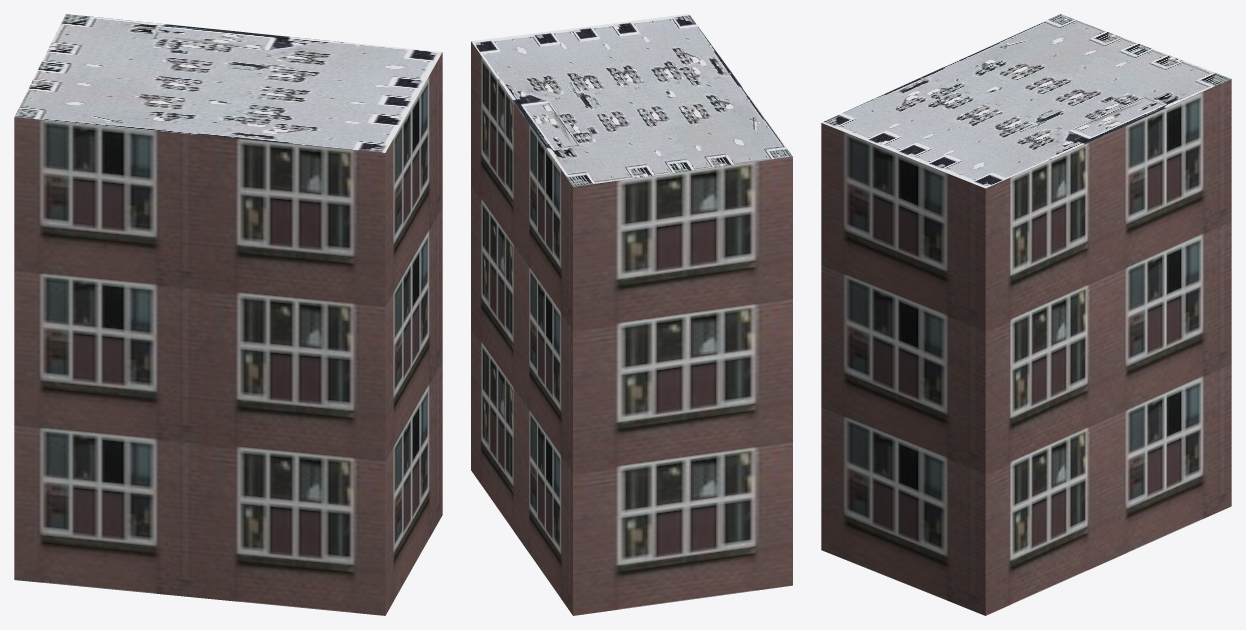
File: ResTex__4367.fbx
3 renders of one model, left to right at view 1: azimuth 30°, elevation 25°; view 2: azimuth 150°, elevation 25°; view 3: azimuth 270°, elevation 25°, orthographic. The views are drawn at different scales.
Visible parts, largest first — view 1: CityEngineMaterial_12_m, CityEngineMaterial_8_m; view 2: CityEngineMaterial_12_m, CityEngineMaterial_8_m; view 3: CityEngineMaterial_12_m, CityEngineMaterial_8_m.
Boxes of the visible parts, x1,y1,x2,y2 form: CityEngineMaterial_12_m: [14, 52, 442, 615]; CityEngineMaterial_8_m: [14, 14, 442, 152]; CityEngineMaterial_12_m: [471, 41, 792, 615]; CityEngineMaterial_8_m: [471, 14, 792, 186]; CityEngineMaterial_12_m: [821, 79, 1231, 615]; CityEngineMaterial_8_m: [821, 14, 1230, 188].
Bounding box in the file's own units: 7.89 × 9 × 7.84.
2 materials, 2 textured.
